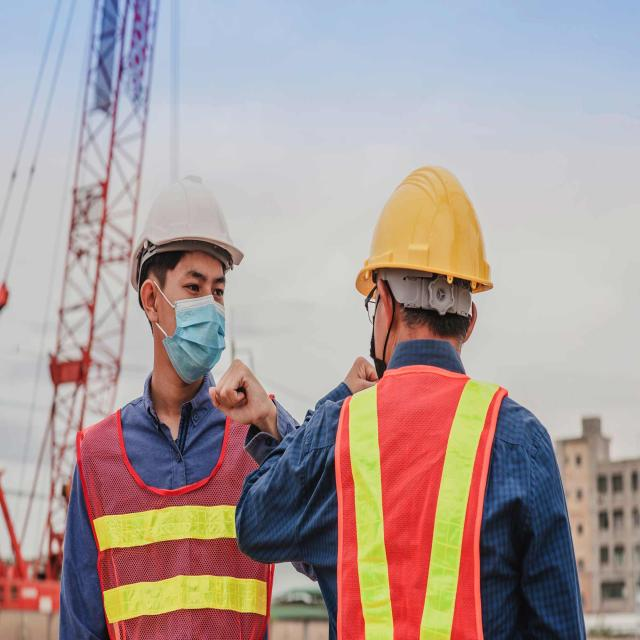helmet: (351, 164, 496, 322), (129, 171, 247, 292)
vest: (69, 393, 282, 640), (328, 366, 516, 640)
